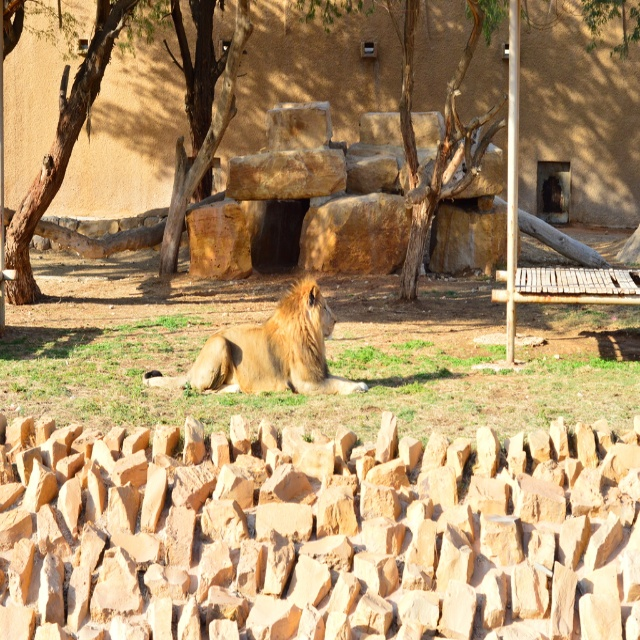Lion: (140, 272, 367, 395)
